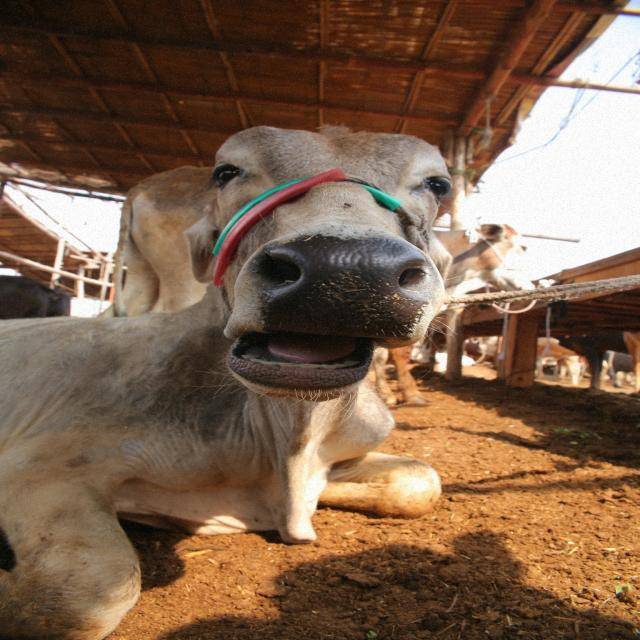muzzles: (239, 233, 432, 350)
